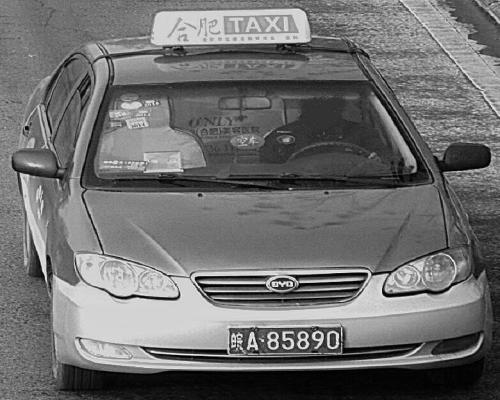Carplate: (224, 318, 348, 360)
